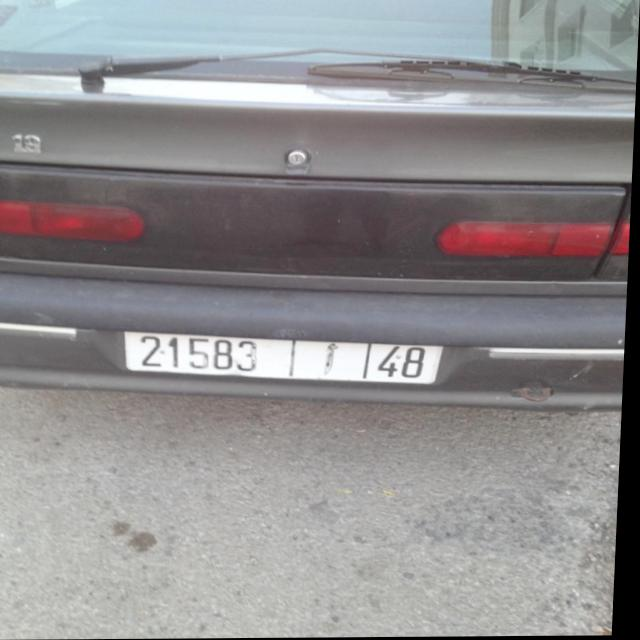License-Plate: (128, 332, 446, 384)
